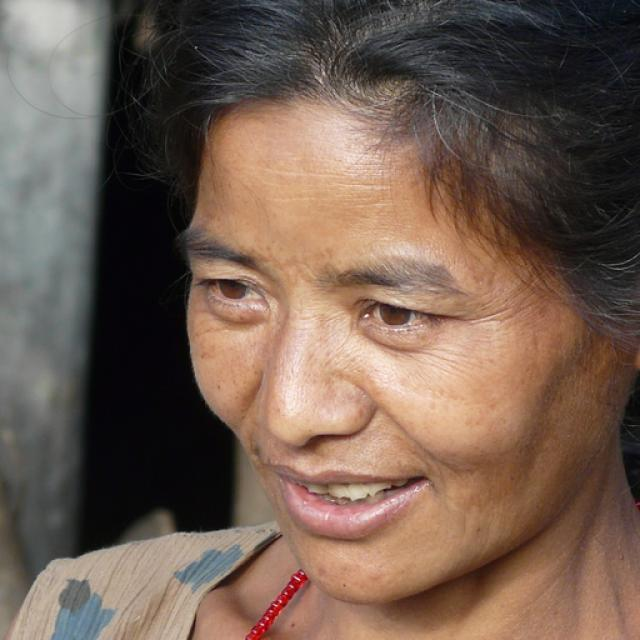happy: (178, 86, 602, 608)
